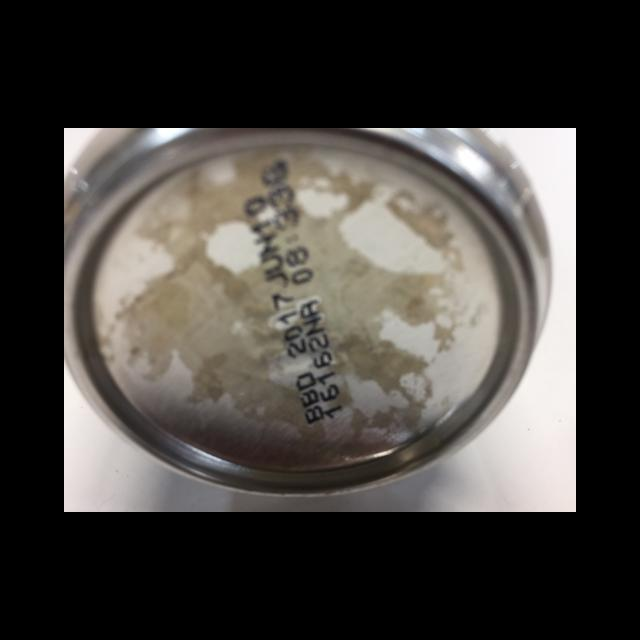metal: (64, 128, 551, 496)
